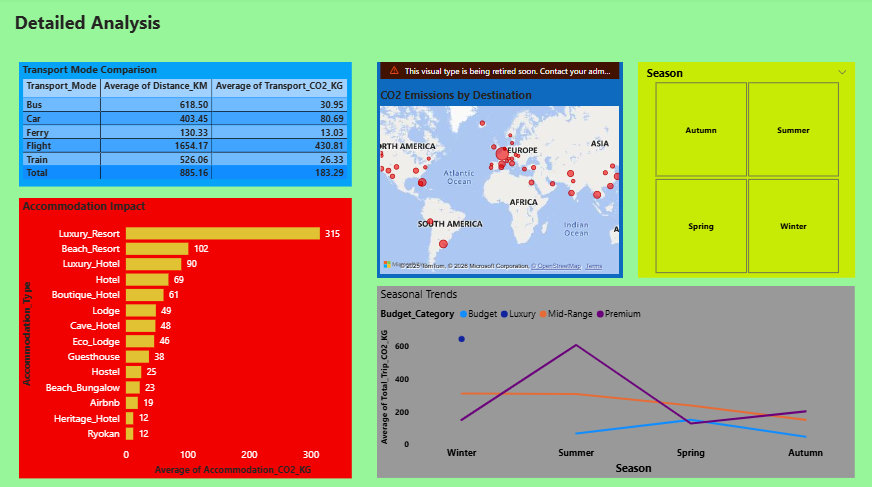

The page's visual inventory and layout, read from the dashboard file:
{"tool":"powerbi","page":{"name":"Detailed Analysis","canvas":[1280,720],"ordinal":1},"visuals":[{"type":"map","title":"CO2 Emissions by Destination","fields":{"Category":["tourist_carbon_data.Destination_City"],"Size":["Sum(tourist_carbon_data.Total_Trip_CO2_KG)"]},"box":[554.3,95.7,361.2,317.5],"z":0},{"type":"tableEx","title":"Transport Mode Comparison","fields":{"Values":["tourist_carbon_data.Transport_Mode","Avg(tourist_carbon_data.Distance_KM)","Avg(tourist_carbon_data.Transport_CO2_KG)"]},"box":[28.6,95.7,488.8,183.1],"z":1000},{"type":"clusteredBarChart","title":"Accommodation Impact","fields":{"Category":["tourist_carbon_data.Accommodation_Type"],"Y":["Avg(tourist_carbon_data.Accommodation_CO2_KG)"]},"box":[28.6,295.6,488.8,411.5],"z":2000},{"type":"lineChart","title":"Seasonal Trends","fields":{"Category":["tourist_carbon_data.Season"],"Y":["Avg(tourist_carbon_data.Total_Trip_CO2_KG)"],"Series":["tourist_carbon_data.Budget_Category"]},"box":[554.3,425,702.2,282.2],"z":3000},{"type":"slicer","fields":{"Values":["tourist_carbon_data.Season"]},"box":[937.3,95.7,319.2,317.5],"z":4000},{"type":"textbox","box":[16.8,13.4,299,52.1],"z":5000}]}

Visuals, with their boxes in screenshot pixels (x1, y1, x2, y2), scaled from the page's 1280x720 canvas onto the 872x487 screenshot:
"CO2 Emissions by Destination" map: (left=378, top=65, right=624, bottom=279)
"Transport Mode Comparison" tableEx: (left=19, top=65, right=352, bottom=189)
"Accommodation Impact" clusteredBarChart: (left=19, top=200, right=352, bottom=478)
"Seasonal Trends" lineChart: (left=378, top=287, right=856, bottom=478)
slicer - tourist_carbon_data.Season: (left=639, top=65, right=856, bottom=279)
textbox: (left=11, top=9, right=215, bottom=44)
